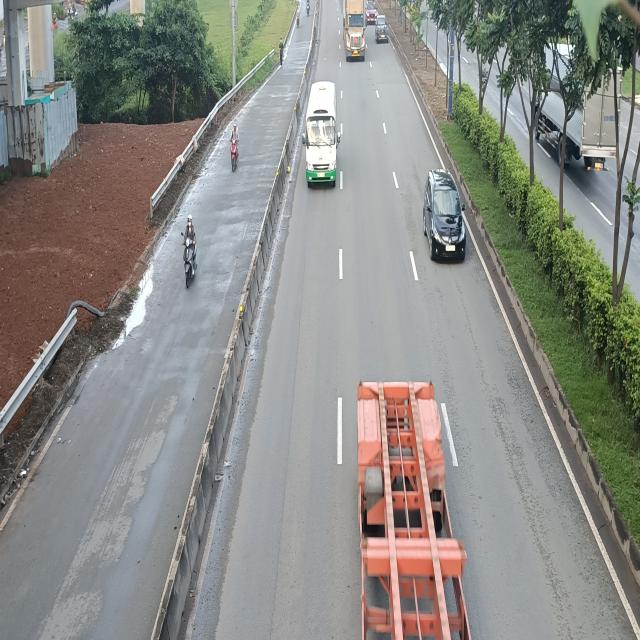car: (424, 168, 466, 262)
coach: (304, 83, 343, 190)
container: (355, 385, 485, 640), (342, 1, 368, 64)
